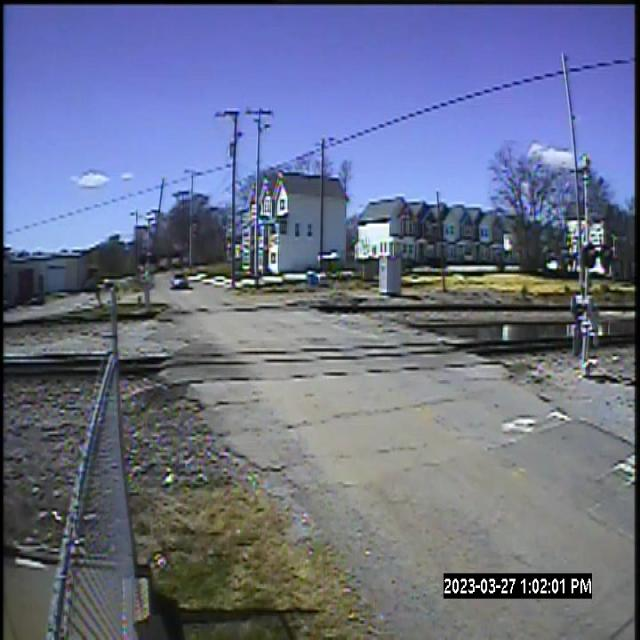barrier: (553, 47, 601, 225), (145, 179, 171, 238)
car: (170, 267, 190, 296)
rails: (0, 324, 640, 388), (7, 287, 640, 343)
traffic-signal: (556, 220, 617, 386), (132, 246, 164, 314)
